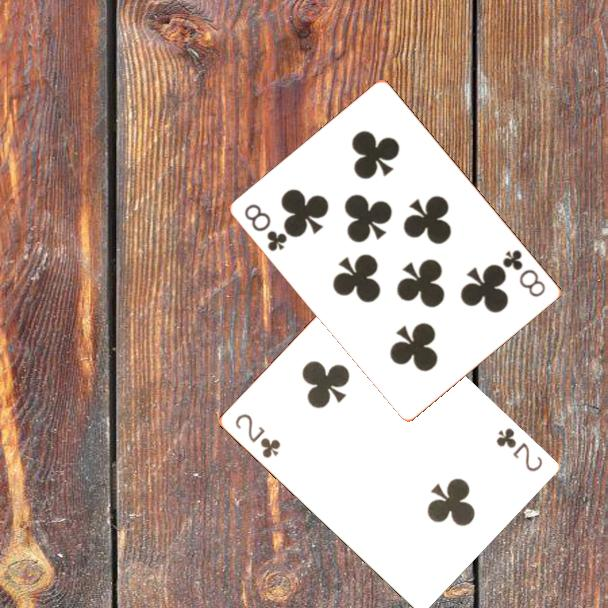c02: (492, 424, 545, 475), (231, 410, 283, 461)
c08: (499, 246, 549, 300), (241, 200, 291, 254)
